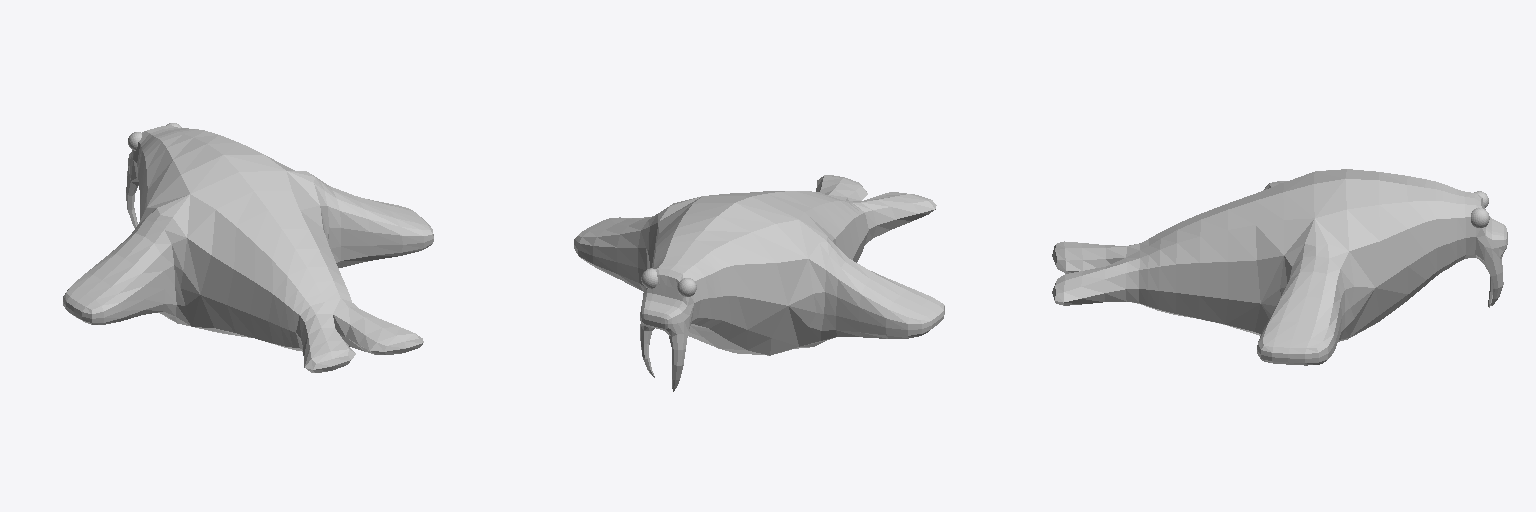
The model's file is Walrus_6.obj.
The picture shows the model from 3 angles: view 1: azimuth 30°, elevation 25°; view 2: azimuth 150°, elevation 25°; view 3: azimuth 270°, elevation 25°; orthographic projection.
Visible parts, largest first — view 1: WalrusBody_Cube; view 2: WalrusBody_Cube; view 3: WalrusBody_Cube.
Part boxes in pixels (bbox=[...]): WalrusBody_Cube: bbox=[63, 125, 433, 372]; WalrusBody_Cube: bbox=[574, 175, 944, 391]; WalrusBody_Cube: bbox=[1052, 169, 1507, 365].
Size of the model in its own units: 14.22 by 5.92 by 15.86.